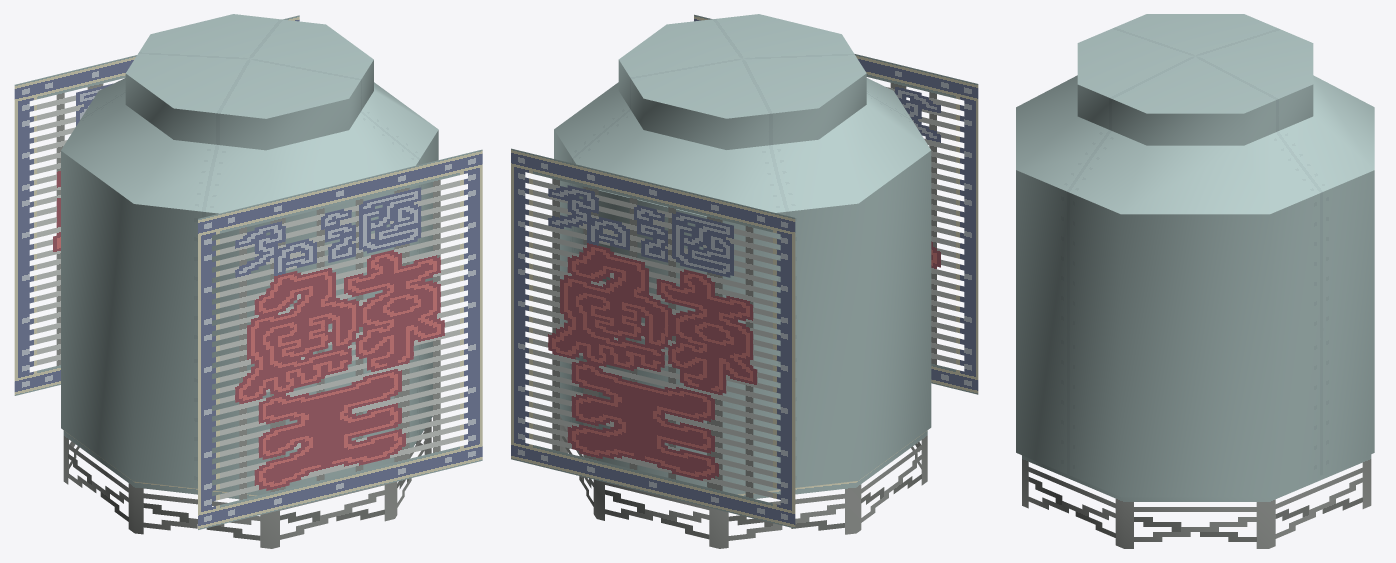
File: 02a3_Drink_Sign.glb
The picture shows the model from 3 angles, left to right: view 1: azimuth 30°, elevation 25°; view 2: azimuth 150°, elevation 25°; view 3: azimuth 270°, elevation 25°; orthographic projection.
Parts seen in each view (by area): view 1: part_0; view 2: part_0; view 3: part_0.
Boxes of the visible parts, left/top/right/bottom form: part_0: left=14, top=14, right=482, bottom=548; part_0: left=511, top=14, right=978, bottom=548; part_0: left=1016, top=14, right=1374, bottom=548.
Bounding box in the file's own units: 10.49 × 13.55 × 10.95.
Materials: 1 (1 with a texture image).
